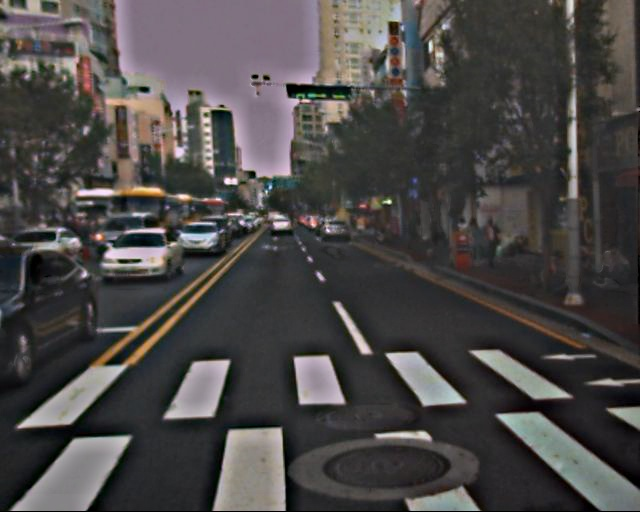person: (597, 240, 631, 291), (481, 218, 504, 273), (465, 218, 486, 268), (426, 212, 443, 254), (413, 211, 429, 249)
